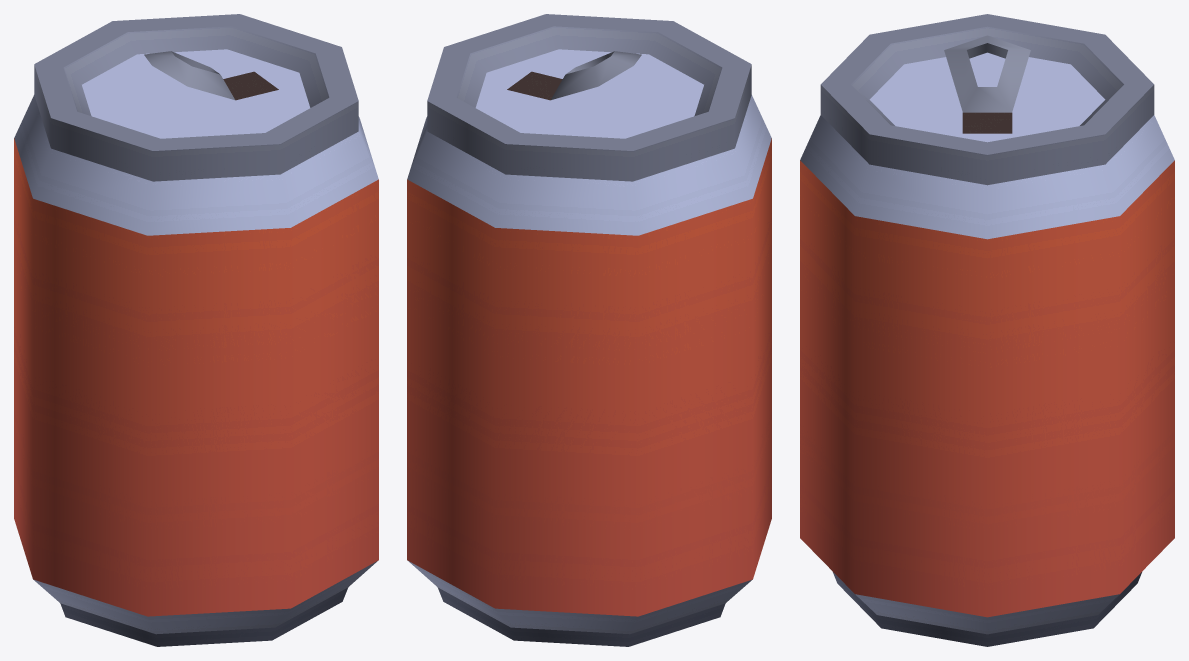
File: soda-can.glb
The picture shows the model from 3 angles, left to right: view 1: azimuth 30°, elevation 25°; view 2: azimuth 150°, elevation 25°; view 3: azimuth 270°, elevation 25°; orthographic projection.
Visible parts, largest first — view 1: soda-can; view 2: soda-can; view 3: soda-can.
Boxes of the visible parts, x1,y1,x2,y2 form: soda-can: [14, 14, 378, 646]; soda-can: [407, 14, 771, 646]; soda-can: [800, 14, 1174, 646].
Bounding box in the file's own units: 0.2246 × 0.3506 × 0.2246.
1 material, 1 textured.
